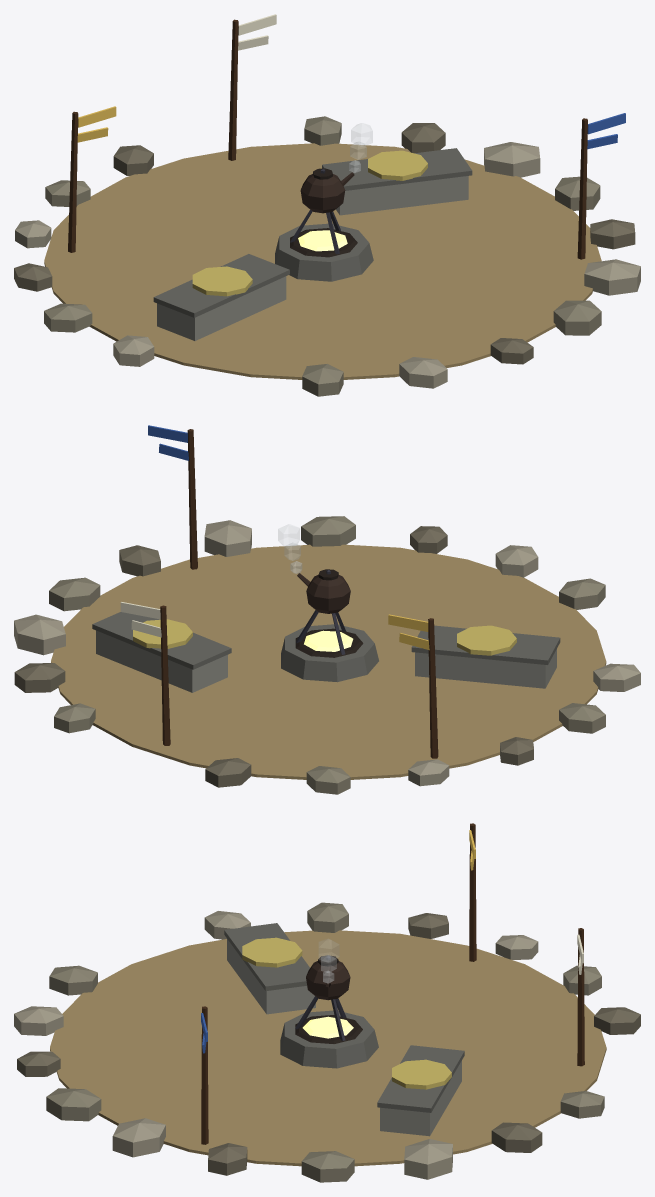
The model's file is prop_seonang_rest.glb.
3 views of the same model, one above another, from view 1: azimuth 30°, elevation 25°; view 2: azimuth 150°, elevation 25°; view 3: azimuth 270°, elevation 25° (orthographic).
Parts seen in each view (by area): view 1: prop_seonang_rest; view 2: prop_seonang_rest; view 3: prop_seonang_rest.
Boxes of the visible parts, x1,y1,x2,y2 form: prop_seonang_rest: [14, 14, 640, 396]; prop_seonang_rest: [14, 425, 640, 794]; prop_seonang_rest: [14, 823, 640, 1182].
Size of the model in its own units: 6.14 by 1.58 by 6.08.
